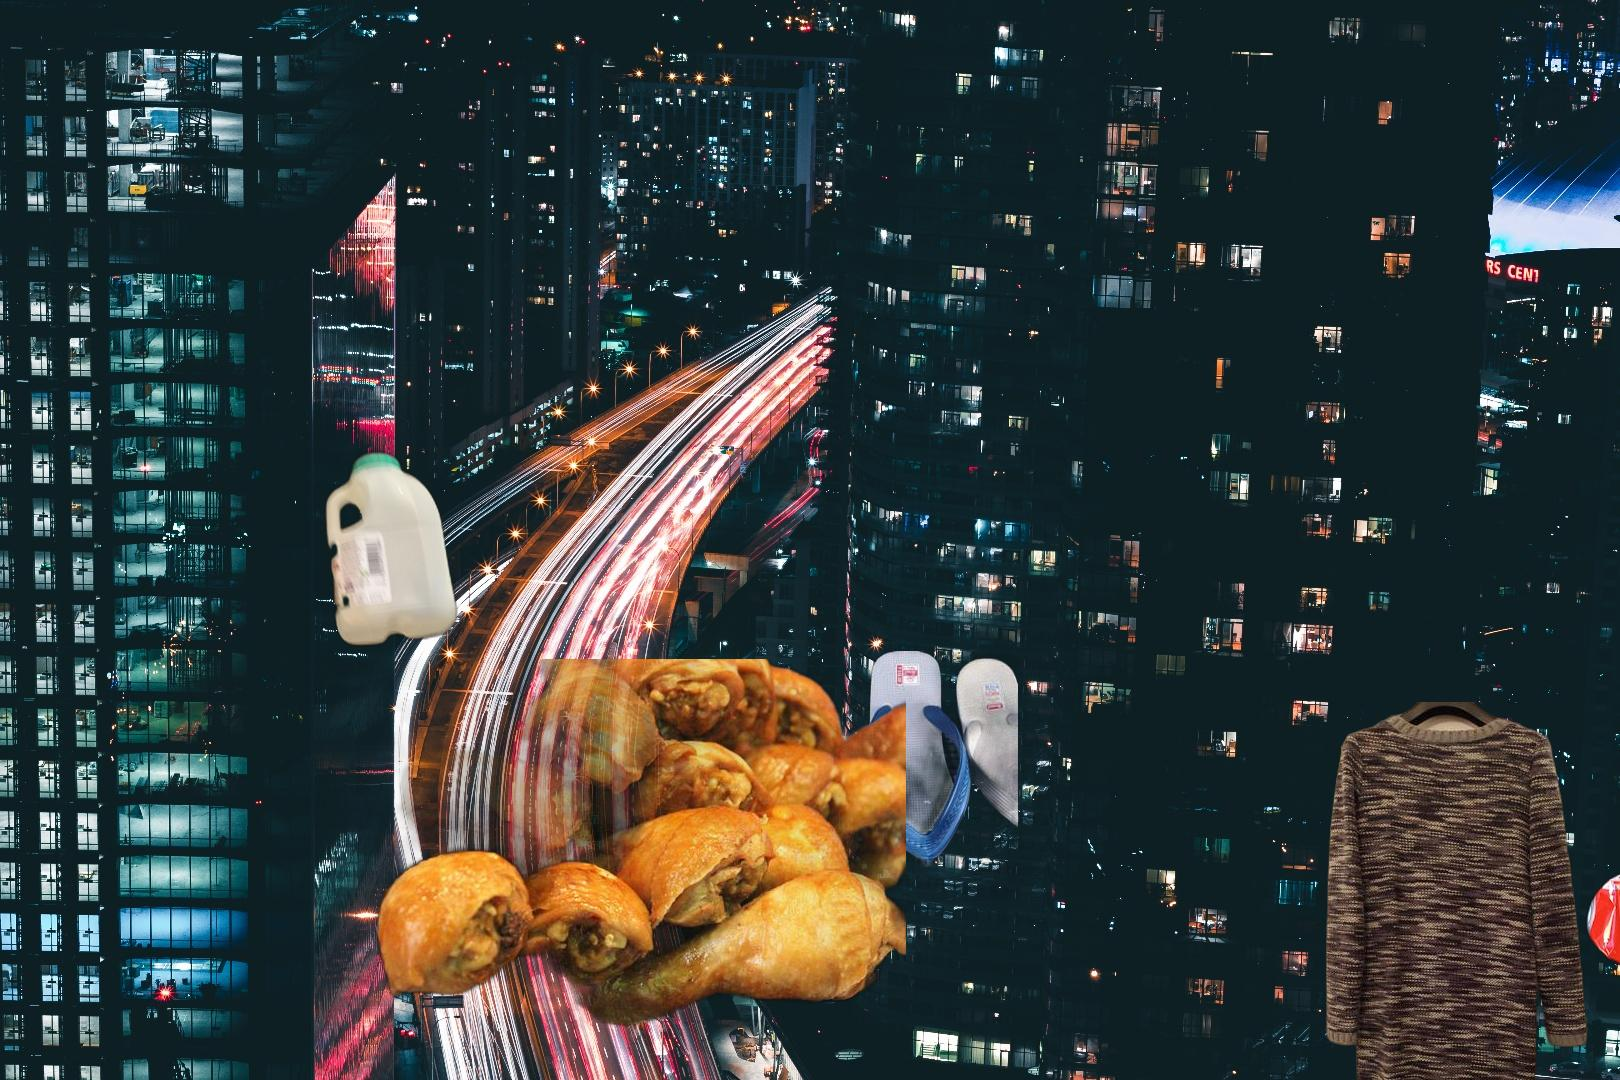biological: (356, 659, 906, 1031), (1619, 832, 1620, 1080)
clothes: (1322, 702, 1590, 1080)
metal-cans: (1571, 444, 1620, 984)
plastic-bottles: (321, 445, 460, 652)
shoes: (830, 651, 1019, 900)
